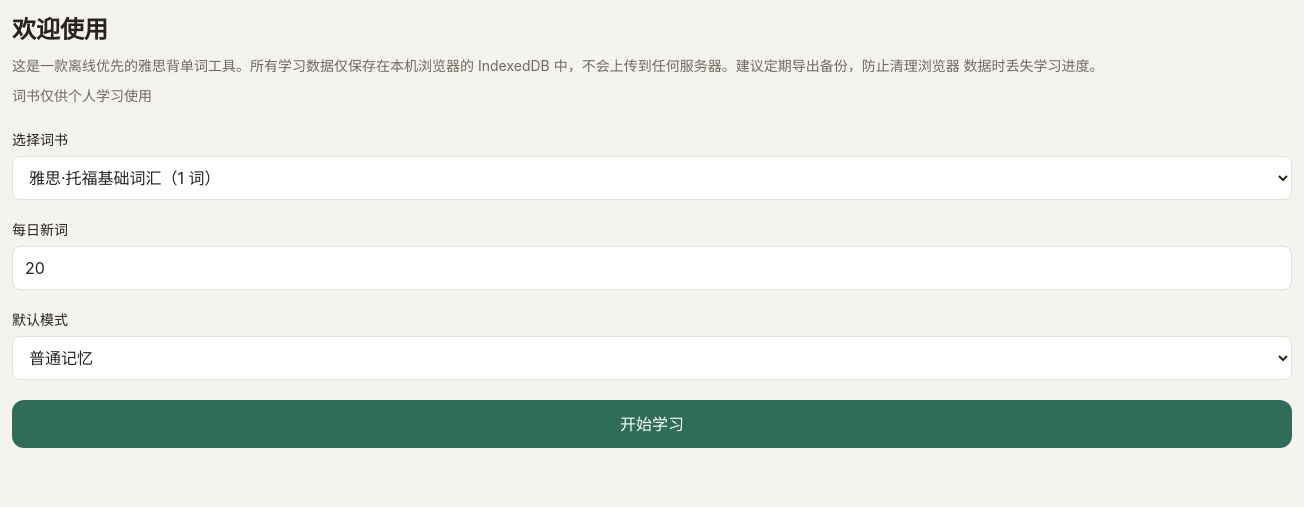
it: OnboardingPage › rejects an invalid daily amount instead of saving it
Replace the text in the number field labelled "每日新词" with "0": (652, 268) [12,246,1292,290]
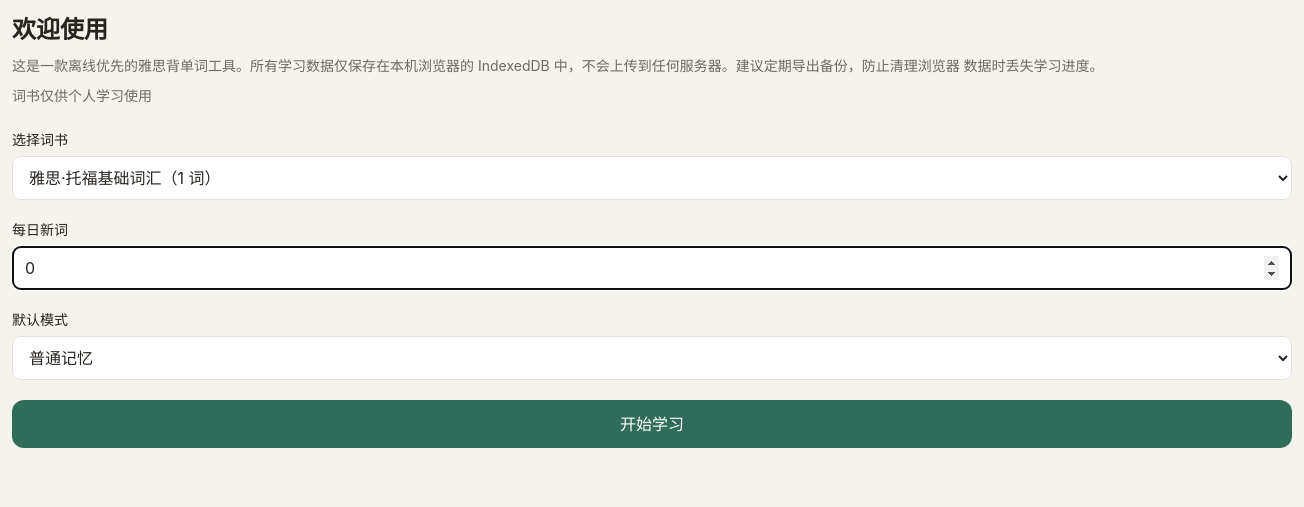
Click the button "开始学习": (652, 424) [12,400,1292,448]
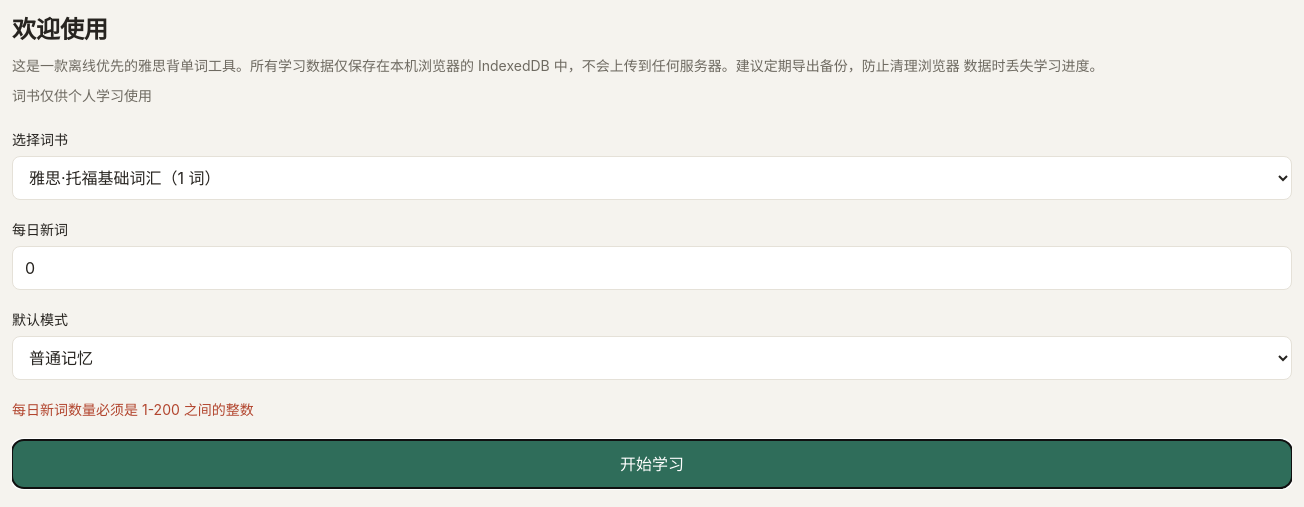
Expected: the text "每日新词数量必须是 1-200 之间的整数" is shown, [12,401,254,418]
